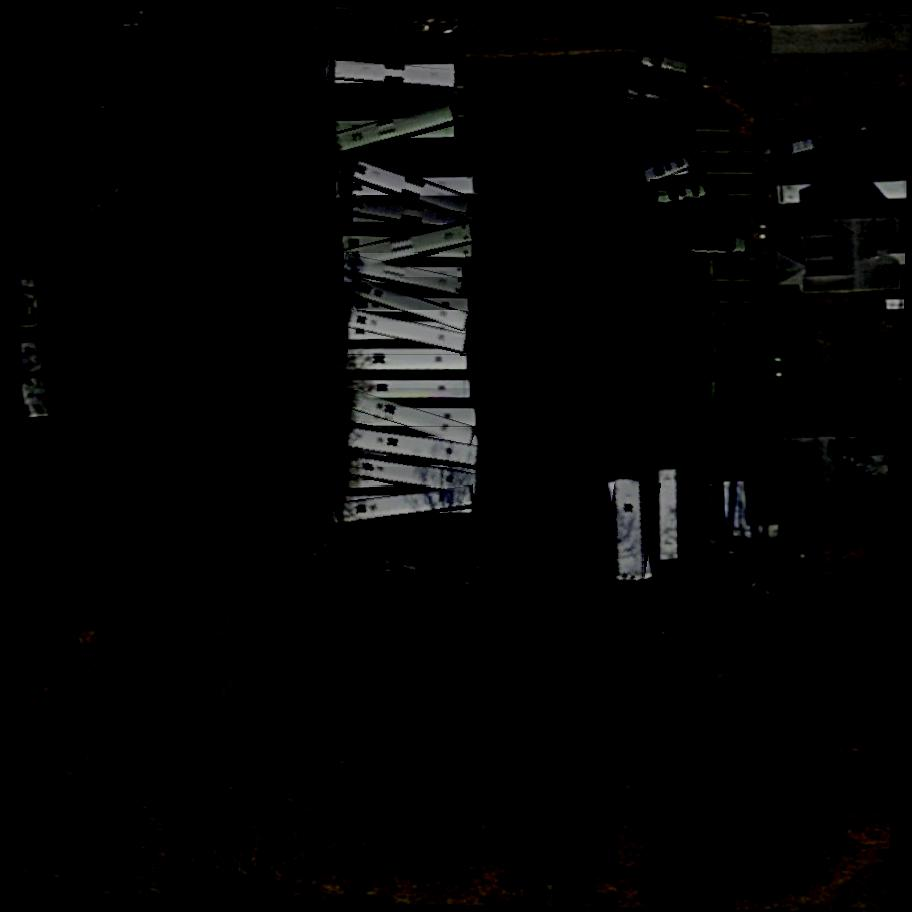large-vehicle: (336, 156, 479, 222), (338, 388, 477, 448), (343, 537, 487, 594), (323, 101, 459, 160), (352, 277, 472, 334), (342, 224, 477, 274), (330, 486, 476, 527), (343, 253, 467, 298), (349, 196, 481, 237), (348, 311, 471, 355), (347, 428, 482, 467), (347, 457, 480, 495), (326, 61, 458, 91), (616, 478, 644, 584), (677, 232, 751, 261)
small-vehicle: (772, 130, 835, 162), (637, 150, 692, 185), (639, 47, 697, 80), (625, 79, 679, 112), (651, 180, 717, 206), (658, 209, 717, 234), (776, 156, 836, 179), (632, 105, 682, 131), (844, 114, 895, 138), (647, 133, 702, 153)
